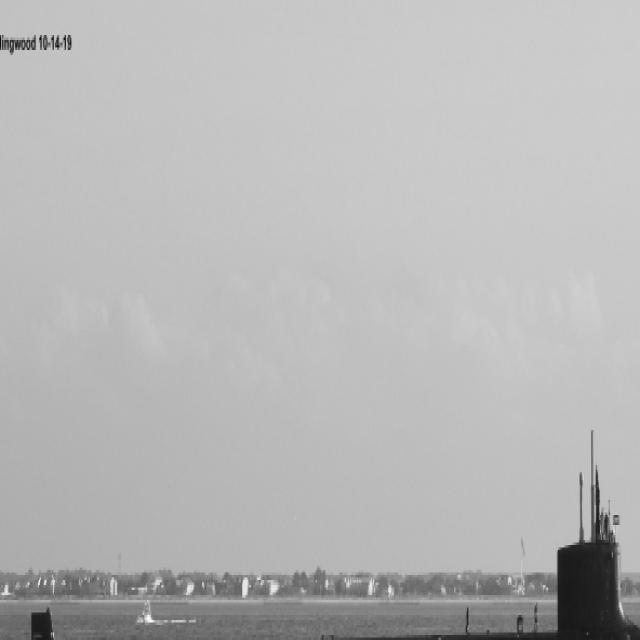submarine: (32, 436, 640, 640)
